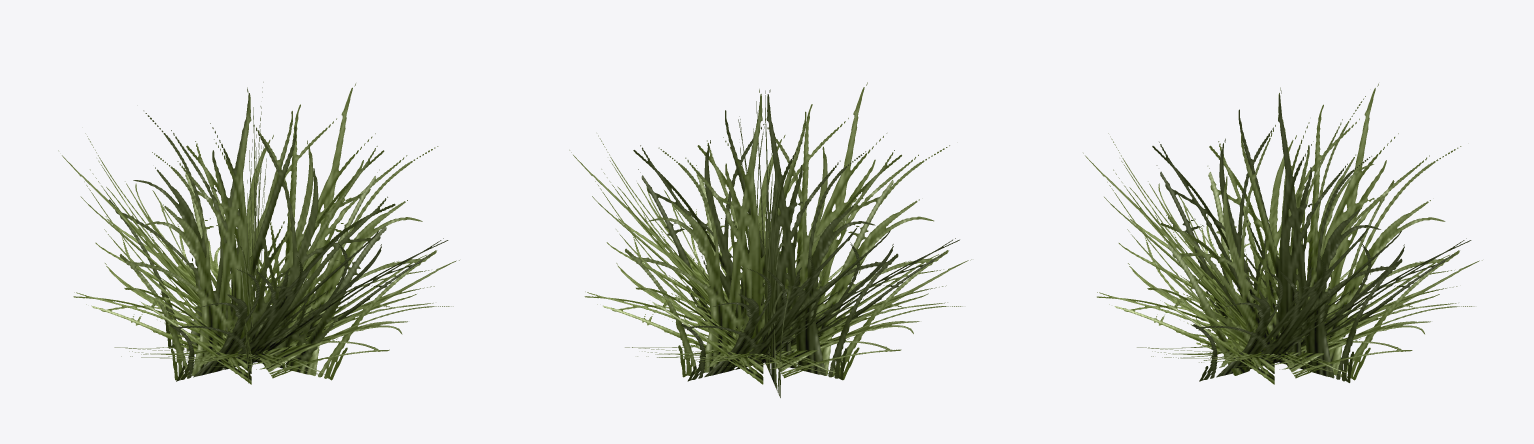
The model's file is plant_1.fbx.
3 views of the same model, side by side, from view 1: azimuth 30°, elevation 25°; view 2: azimuth 150°, elevation 25°; view 3: azimuth 270°, elevation 25° (orthographic).
Parts seen in each view (by area): view 1: mesh; view 2: mesh; view 3: mesh.
Part boxes in pixels (bbox=[...]): mesh: bbox=[58, 82, 459, 384]; mesh: bbox=[569, 82, 971, 397]; mesh: bbox=[1083, 83, 1482, 384].
Size of the model in its own units: 121 by 75 by 116.
